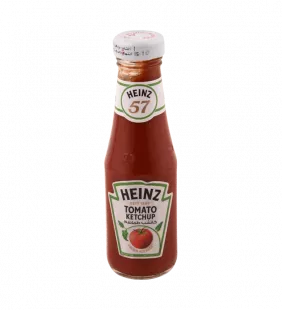HEINZ: (92, 20, 188, 284)
